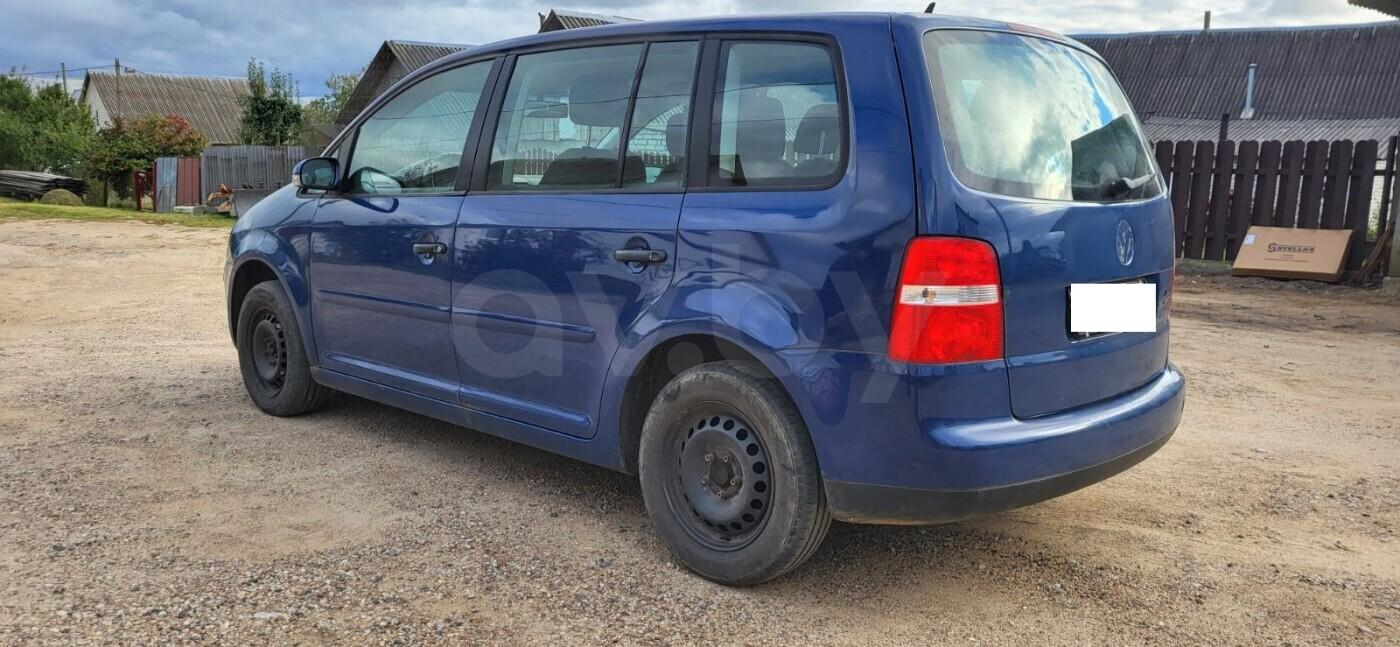Touran_2003-2006: (217, 17, 1190, 575)
